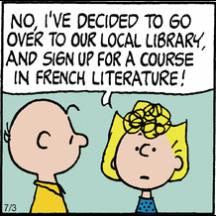charlie: (4, 98, 90, 214)
